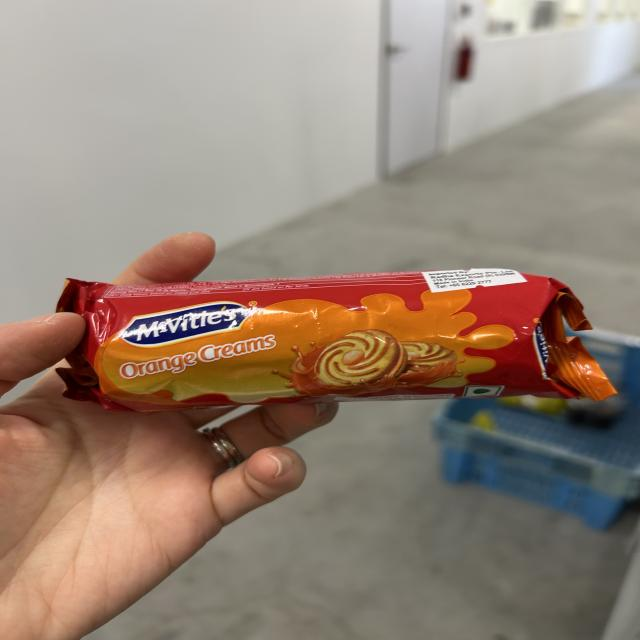object_name: (83, 284, 563, 402)
